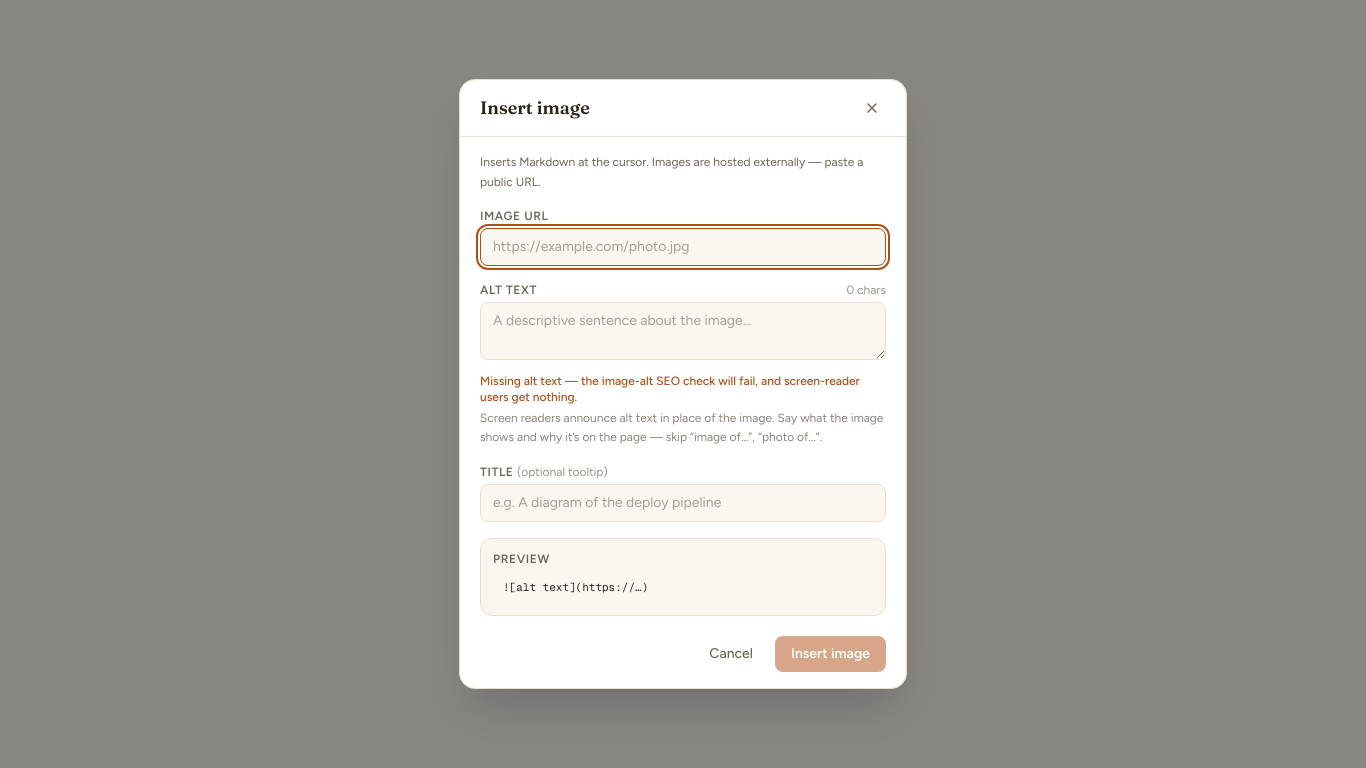
it: ImageDialog — alt text guidance › updates the character counter as the user types
Step 1. Type "hello" into the text box labelled "Alt text 0 chars" → (683, 332), box [480,302,886,360]
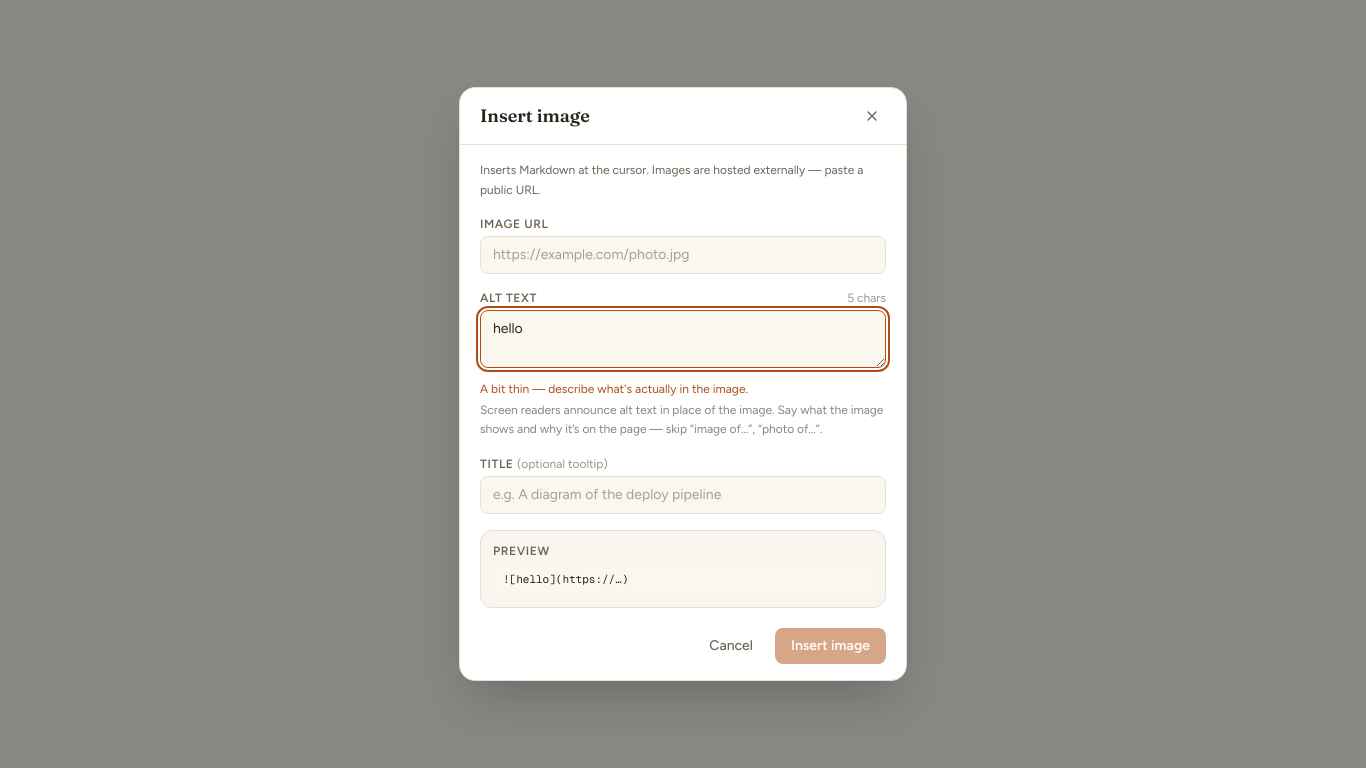
Result: the text "5 chars" is shown at [847,290,886,306]
Step 2. Type " world" into the text box labelled "Alt text 5 chars" → (683, 340), box [480,310,886,368]
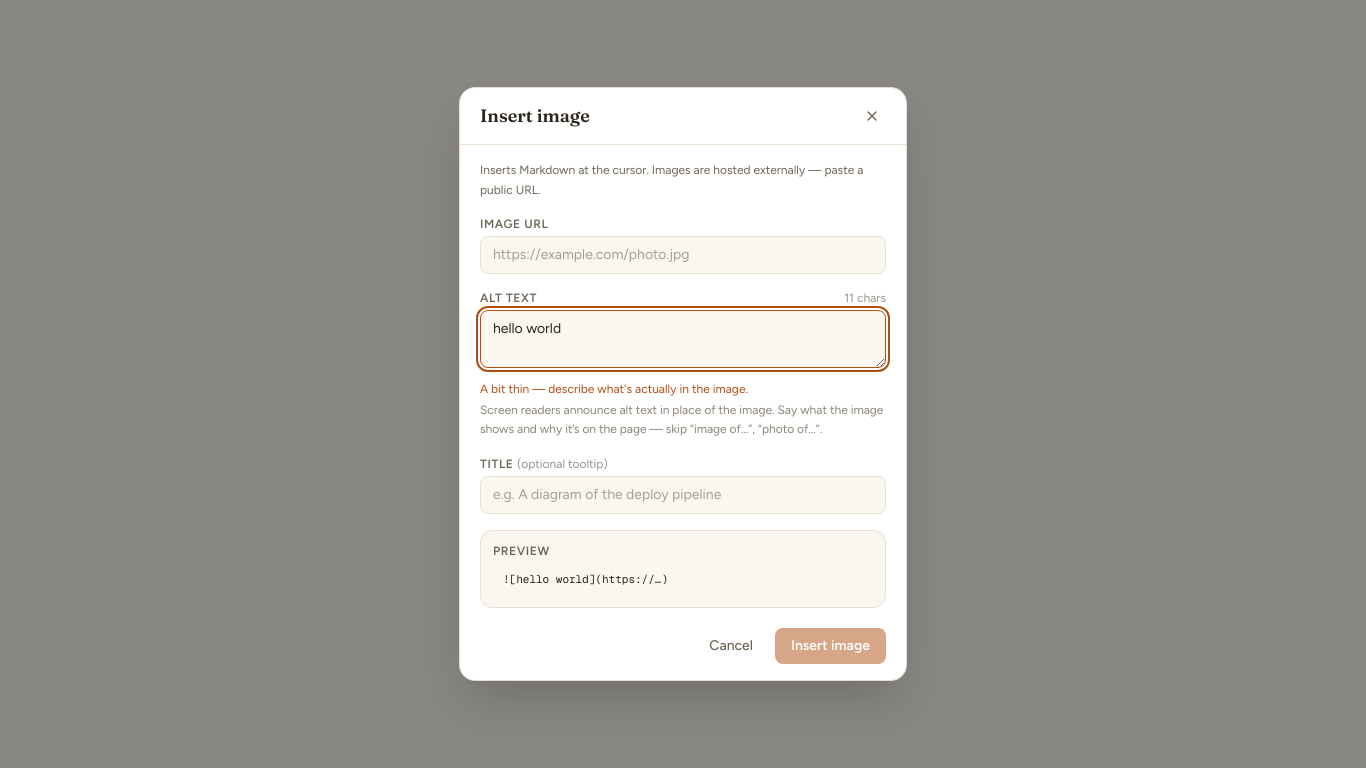
Result: the text "11 chars" is shown at [844,290,886,306]
